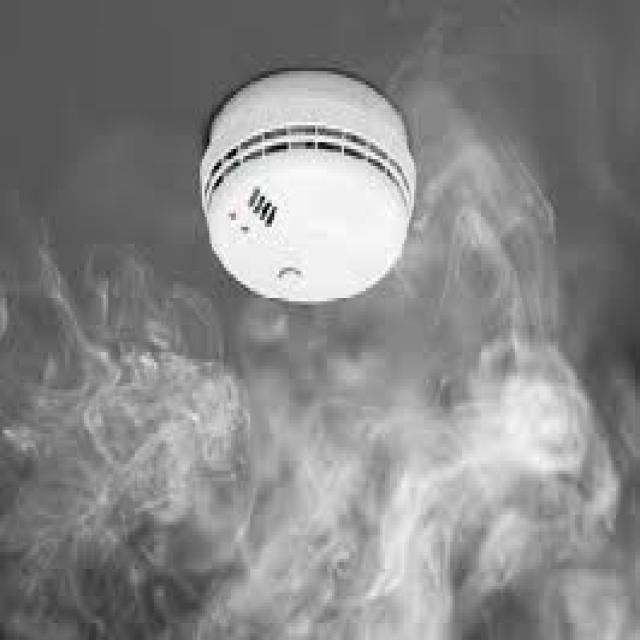Smoke: (38, 264, 580, 640)
